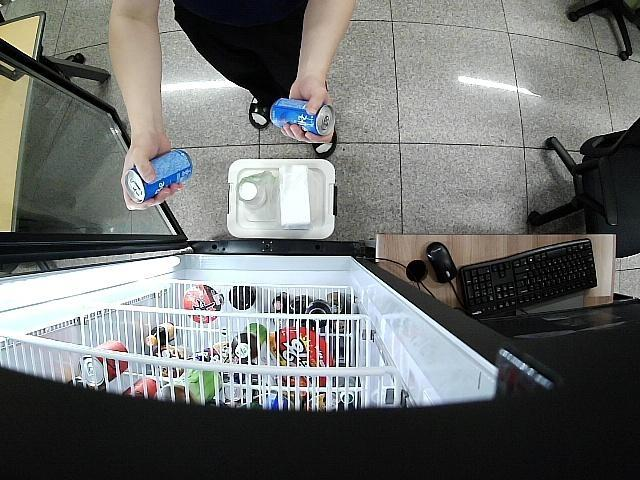15_letsbe: (126, 146, 194, 202), (272, 98, 334, 137)
